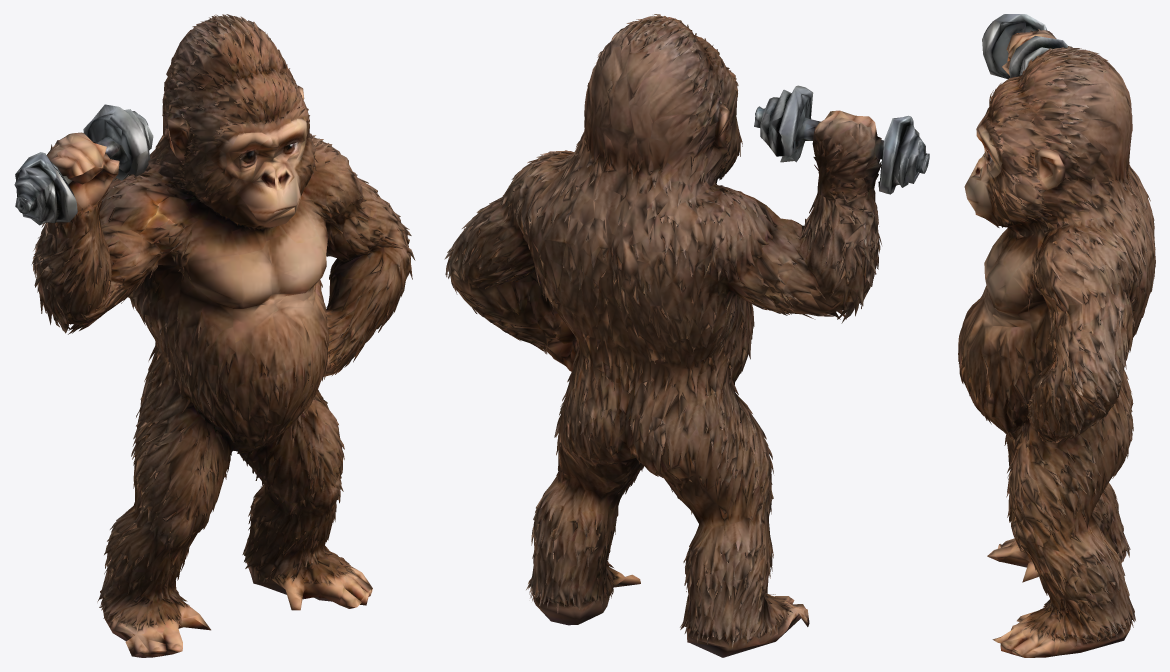
Rendered from goro_3.glb.
The picture shows the model from 3 angles, left to right: view 1: azimuth 30°, elevation 25°; view 2: azimuth 150°, elevation 25°; view 3: azimuth 270°, elevation 25°; orthographic projection. The views are drawn at different scales.
Bounding box in the file's own units: 0.7487 × 0.9805 × 0.3149.
1 material, 1 textured.
